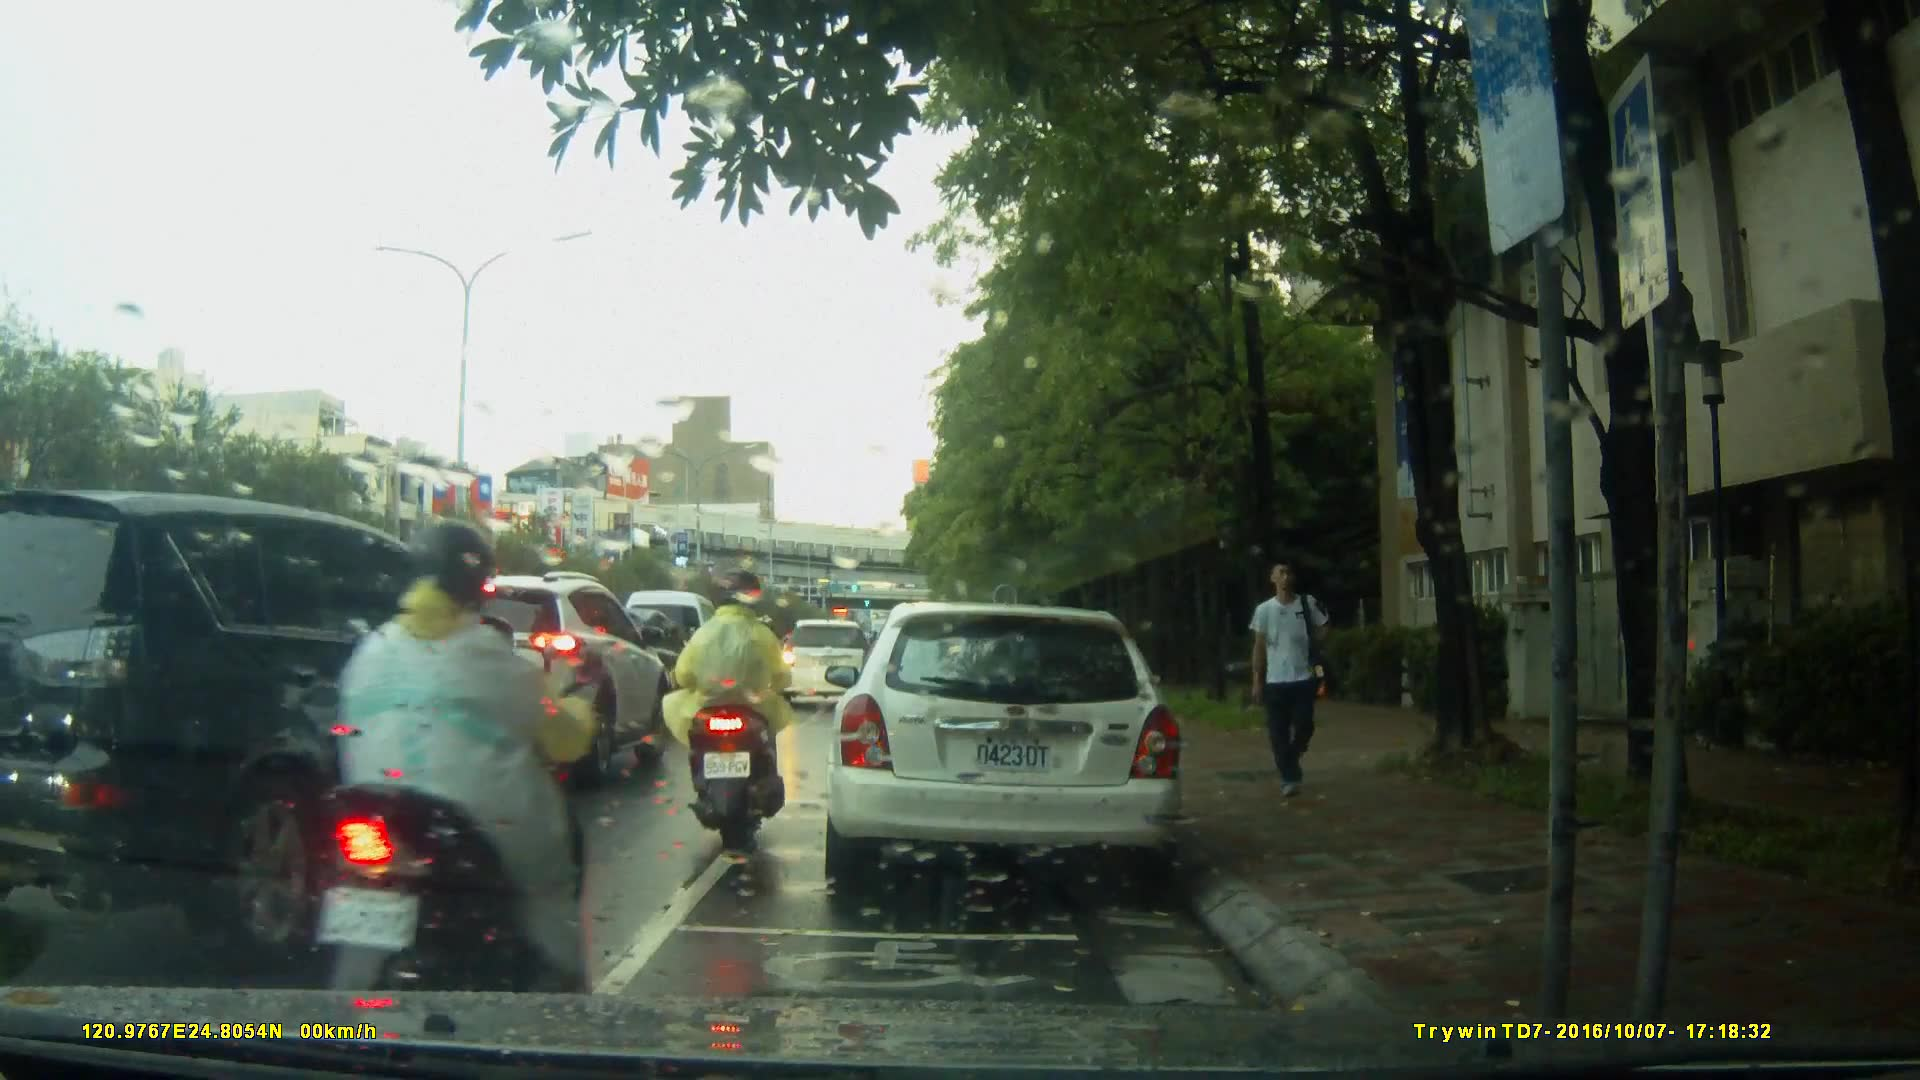pedestrian: (1235, 556, 1336, 807)
rider: (313, 518, 621, 1027), (667, 569, 803, 850)
vehicle: (1, 484, 579, 965), (820, 602, 1188, 898), (368, 567, 673, 781), (617, 588, 734, 716), (770, 617, 879, 710)
